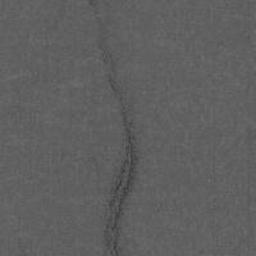Inclusion: (83, 0, 141, 256)
